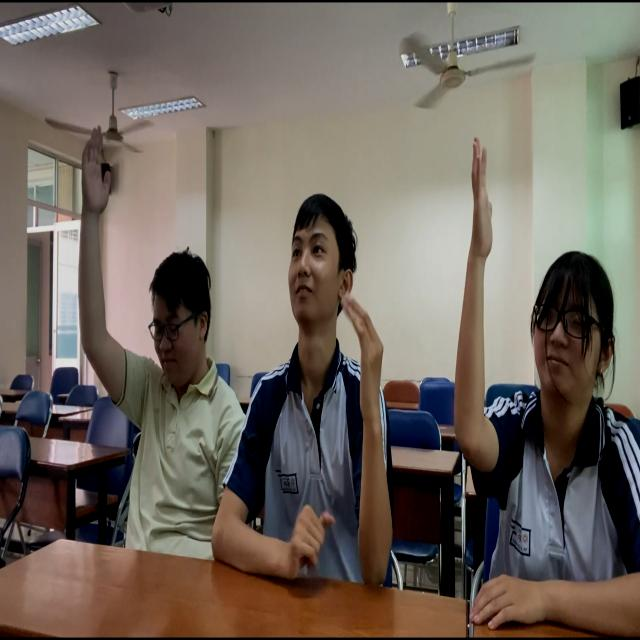raise_hand: (453, 141, 640, 624), (76, 122, 239, 571), (270, 187, 397, 587)
